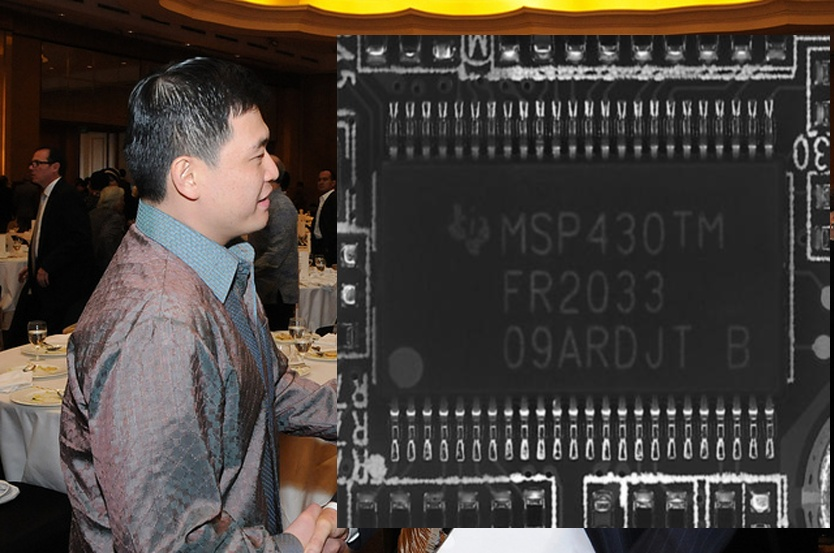PIN: (373, 84, 793, 181), (372, 375, 794, 468)
wineglass: (287, 316, 306, 361), (27, 321, 46, 363), (291, 331, 312, 365), (315, 257, 324, 281)
